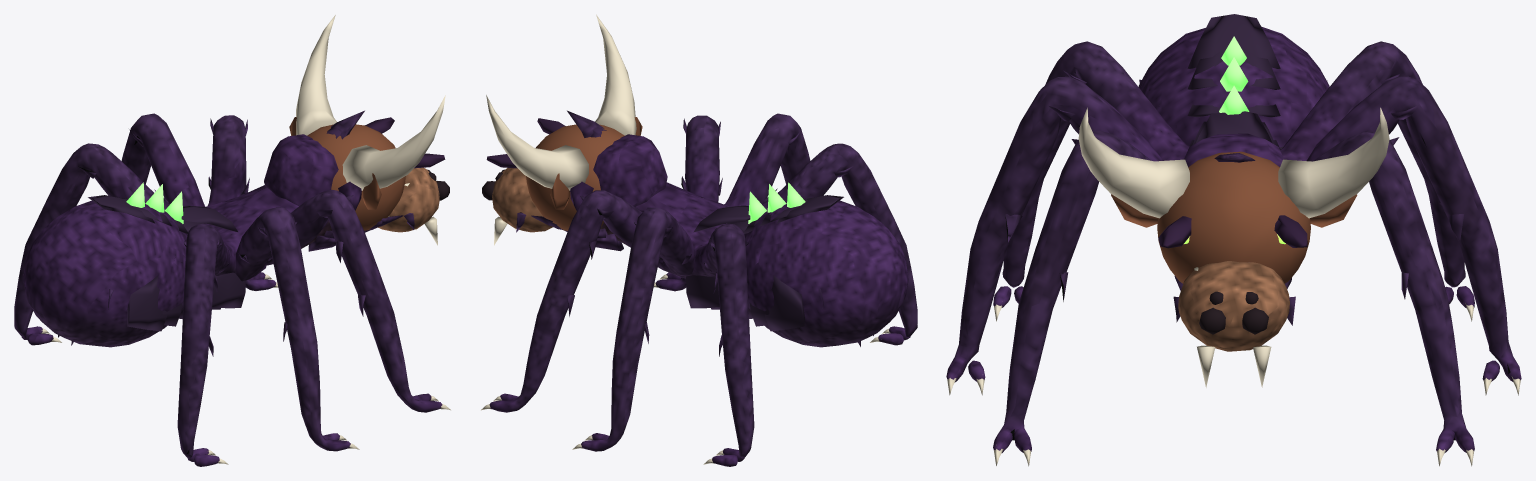
File: ushi-oni.glb
3 views of the same model, side by side, from view 1: azimuth 30°, elevation 25°; view 2: azimuth 150°, elevation 25°; view 3: azimuth 270°, elevation 25° (orthographic). The views are drawn at different scales.
Visible parts, largest first — view 1: ushi-oni.001; view 2: ushi-oni.001; view 3: ushi-oni.001.
Boxes of the visible parts, x1,y1,x2,y2 form: ushi-oni.001: [14, 15, 450, 466]; ushi-oni.001: [481, 14, 917, 466]; ushi-oni.001: [946, 14, 1521, 466].
Size of the model in its own units: 2.69 by 1.79 by 2.47.
Materials: 10 (1 with a texture image).
